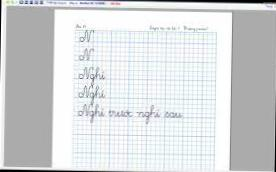text: (78, 102, 184, 126), (77, 84, 106, 106), (78, 66, 106, 86), (78, 48, 96, 62), (148, 25, 180, 32), (80, 29, 94, 44), (184, 25, 210, 32), (75, 24, 87, 28)
